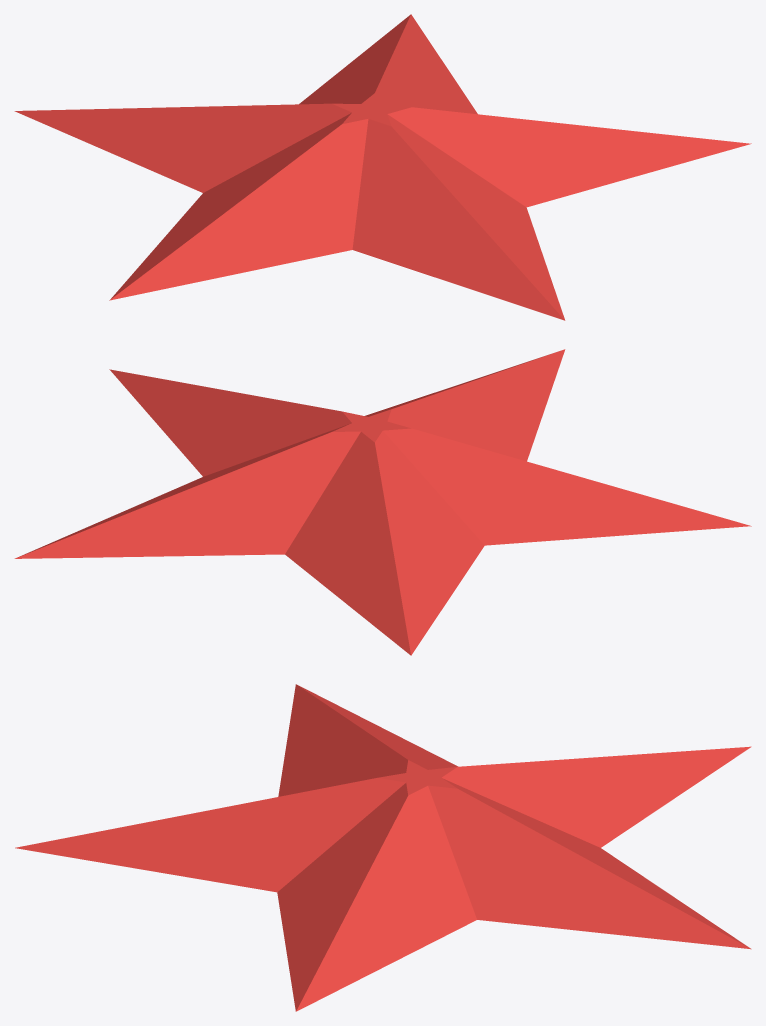
File: Red Starfish.fbx
3 views of the same model, one above another, from view 1: azimuth 30°, elevation 25°; view 2: azimuth 150°, elevation 25°; view 3: azimuth 270°, elevation 25° (orthographic). The views are drawn at different scales.
Visible parts, largest first — view 1: Circle; view 2: Circle; view 3: Circle.
Boxes of the visible parts, x1,y1,x2,y2 form: Circle: [14, 14, 751, 320]; Circle: [14, 349, 751, 655]; Circle: [15, 684, 751, 1011].
Bounding box in the file's own units: 434 × 43.32 × 413.
